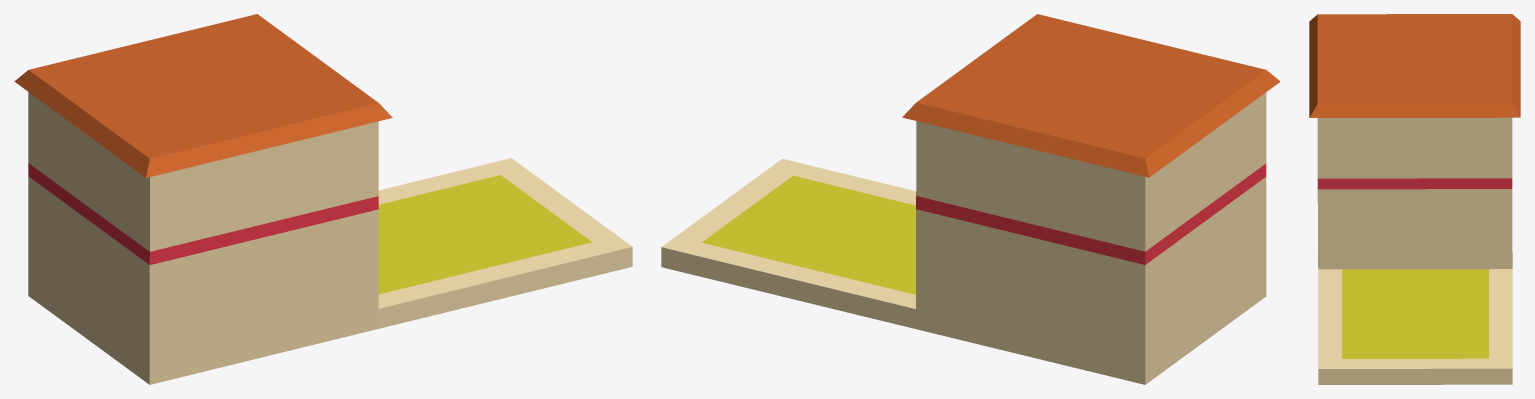
File: House_16.fbx
The picture shows the model from 3 angles, left to right: view 1: azimuth 30°, elevation 25°; view 2: azimuth 150°, elevation 25°; view 3: azimuth 270°, elevation 25°; orthographic projection. The views are drawn at different scales.
Parts seen in each view (by area): view 1: House_16; view 2: House_16; view 3: House_16.
Boxes of the visible parts, x1,y1,x2,y2 form: House_16: (14,14,632,384); House_16: (661,14,1280,384); House_16: (1309,14,1520,384).
Bounding box in the file's own units: 387 × 170 × 179.
